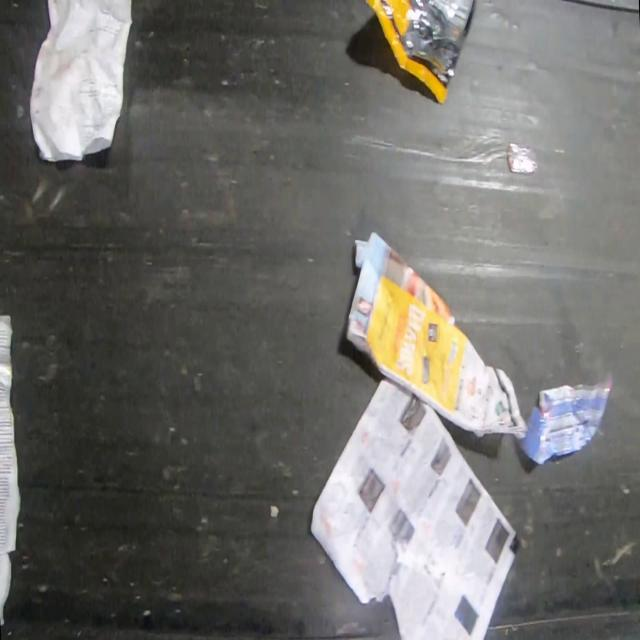cardboard: (342, 229, 527, 441)
soft_plastic: (366, 0, 475, 105), (516, 368, 613, 468)
